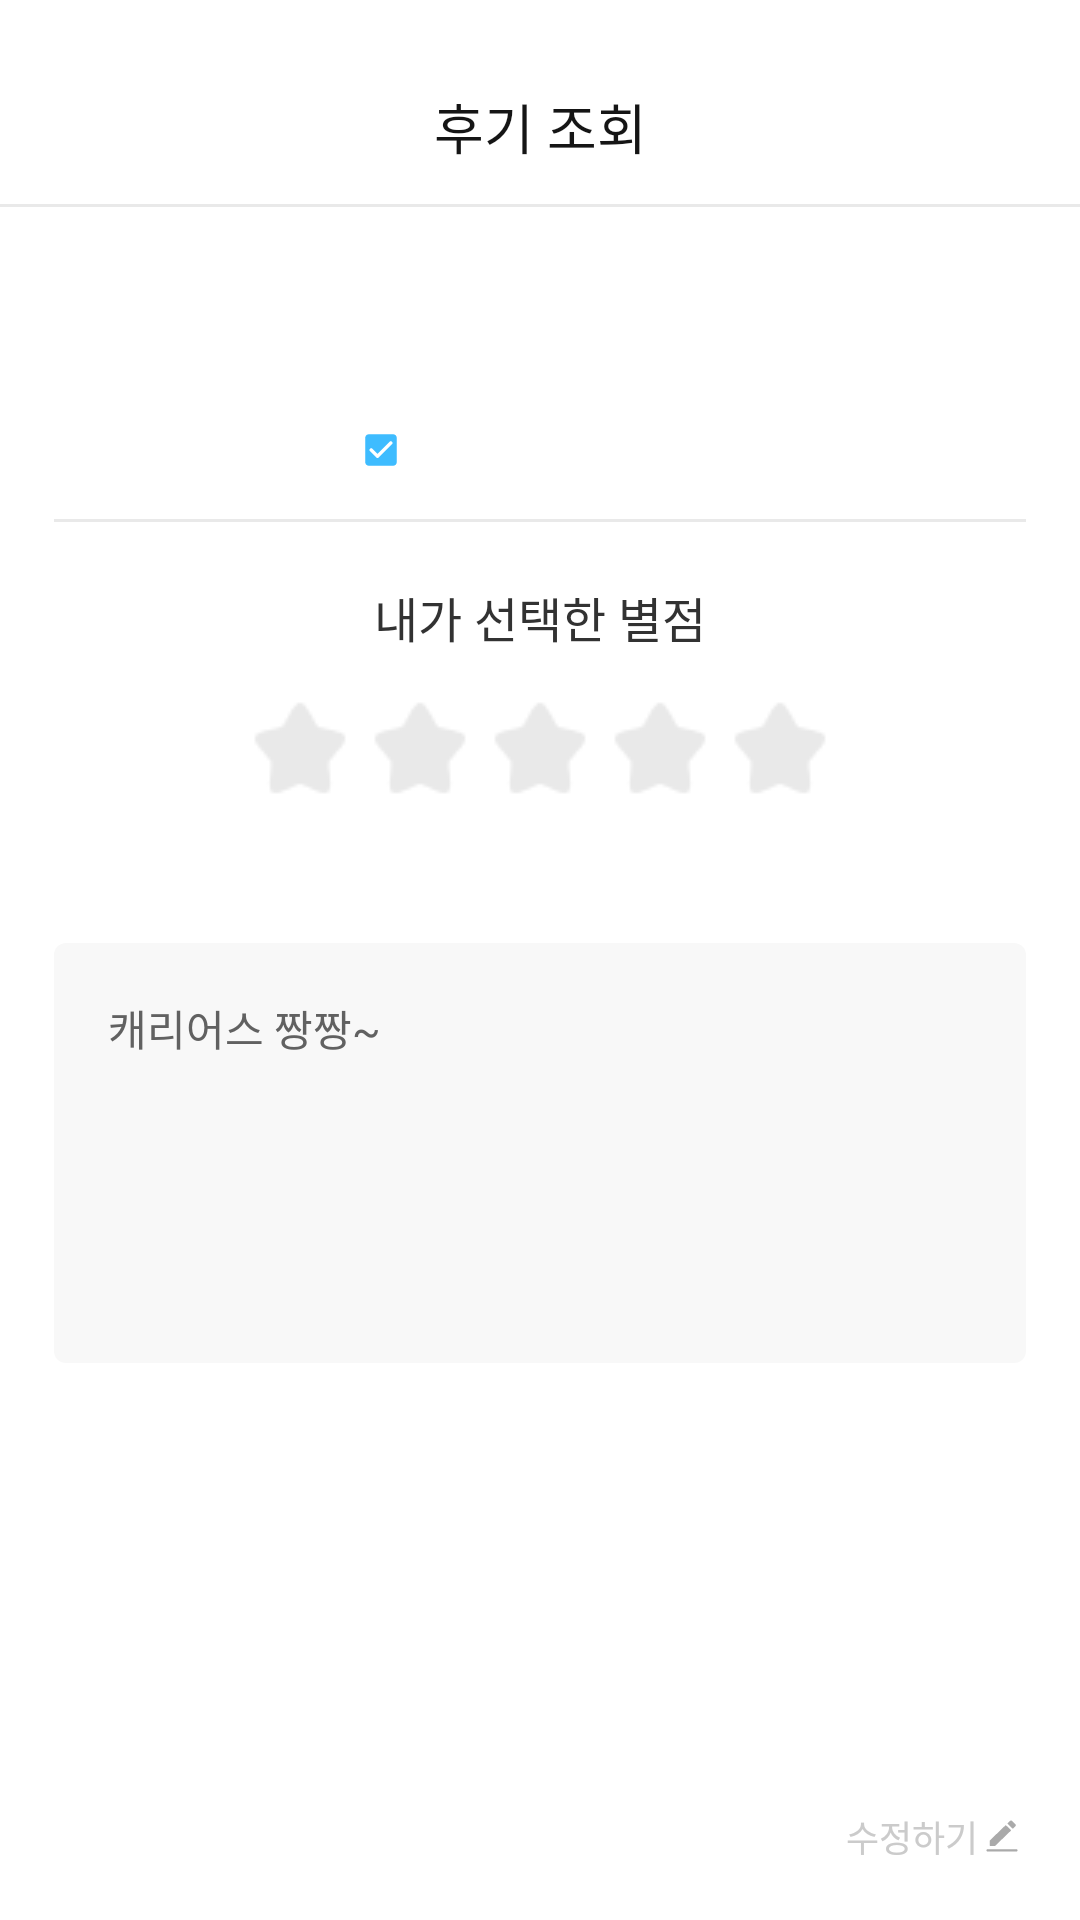

Point at icon controls on the screen. Image size 1080*1920, points as (x,y).
check: (381,450)
edit: (1002,1836)
